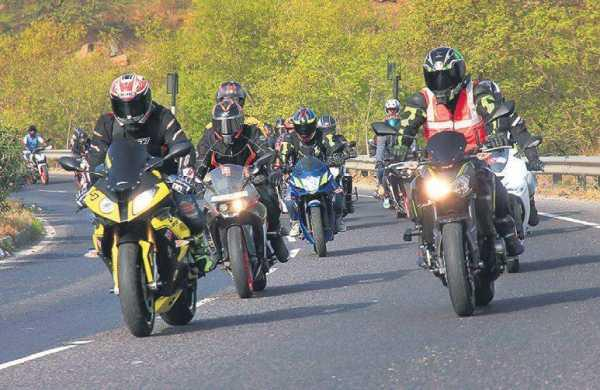helmet: (101, 66, 155, 132), (418, 44, 473, 106), (206, 99, 253, 145), (211, 77, 256, 112), (472, 75, 506, 104), (291, 109, 319, 142), (379, 96, 403, 116)
nohelmet: (23, 124, 41, 143)
